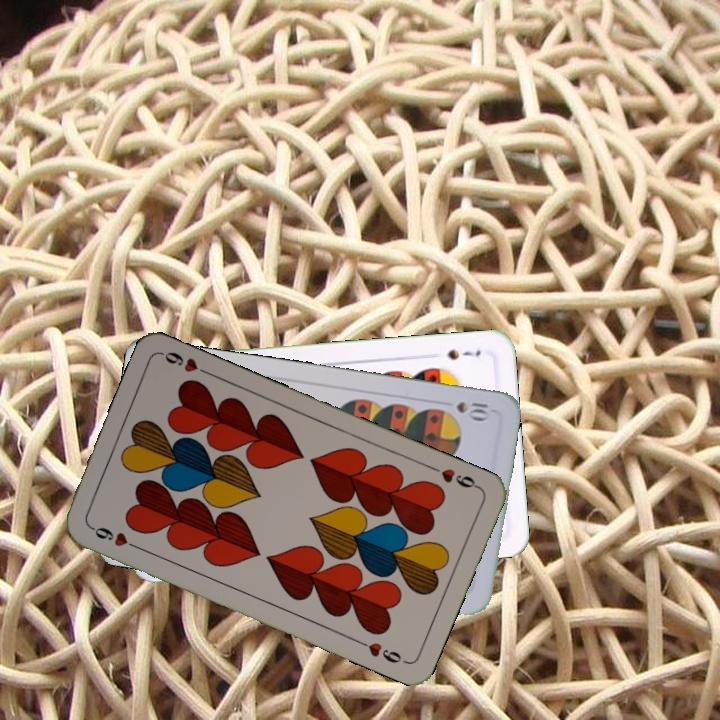H9: (86, 521, 142, 552), (426, 462, 483, 492)
S10: (453, 397, 492, 423)
S7: (443, 345, 483, 362)
